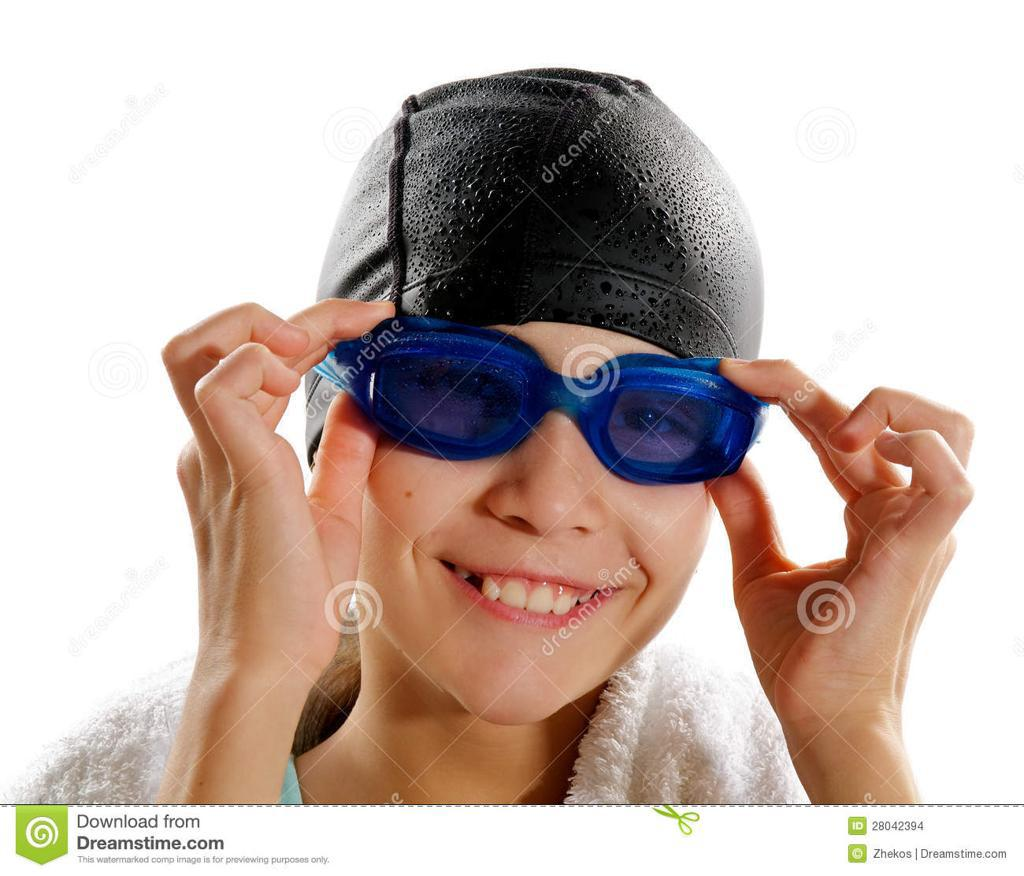face: (363, 239, 713, 723)
